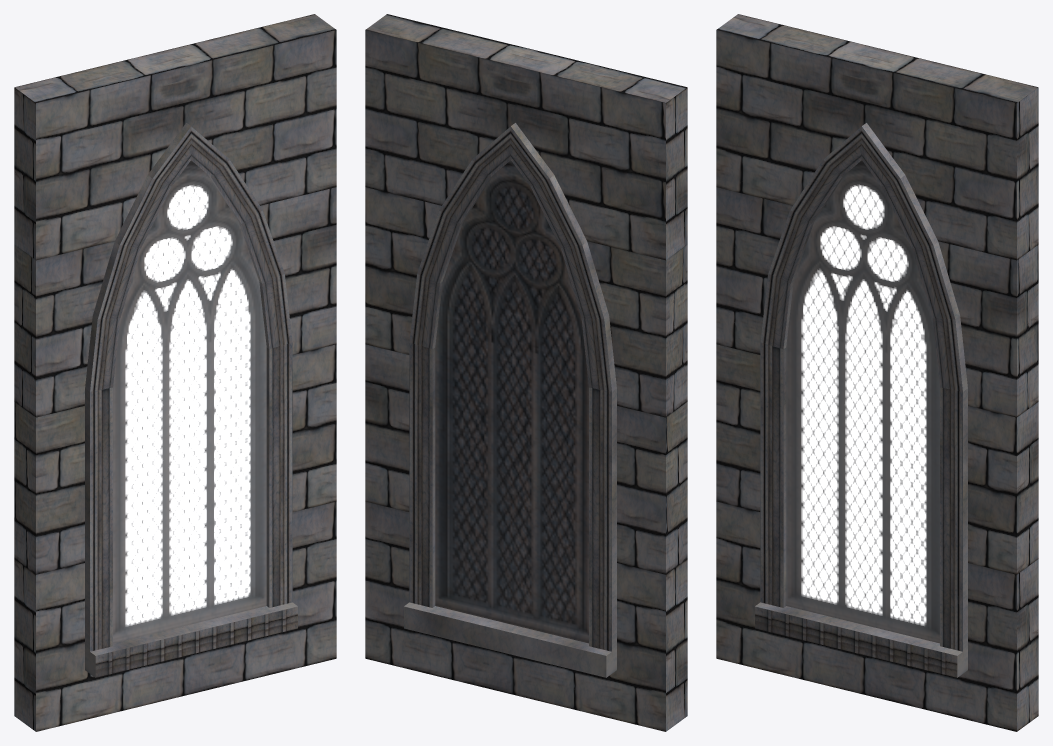
File: wall_window_large_01.fbx
3 views of the same model, side by side, from view 1: azimuth 30°, elevation 25°; view 2: azimuth 150°, elevation 25°; view 3: azimuth 330°, elevation 25° (orthographic).
Visible parts, largest first — view 1: wall_window_large_01; view 2: wall_window_large_01; view 3: wall_window_large_01.
Part boxes in pixels (x1=…): wall_window_large_01: x1=14, y1=14, x2=336, y2=731; wall_window_large_01: x1=365, y1=14, x2=687, y2=731; wall_window_large_01: x1=716, y1=14, x2=1038, y2=731.
Size of the model in its own units: 800 by 1600 by 197.
